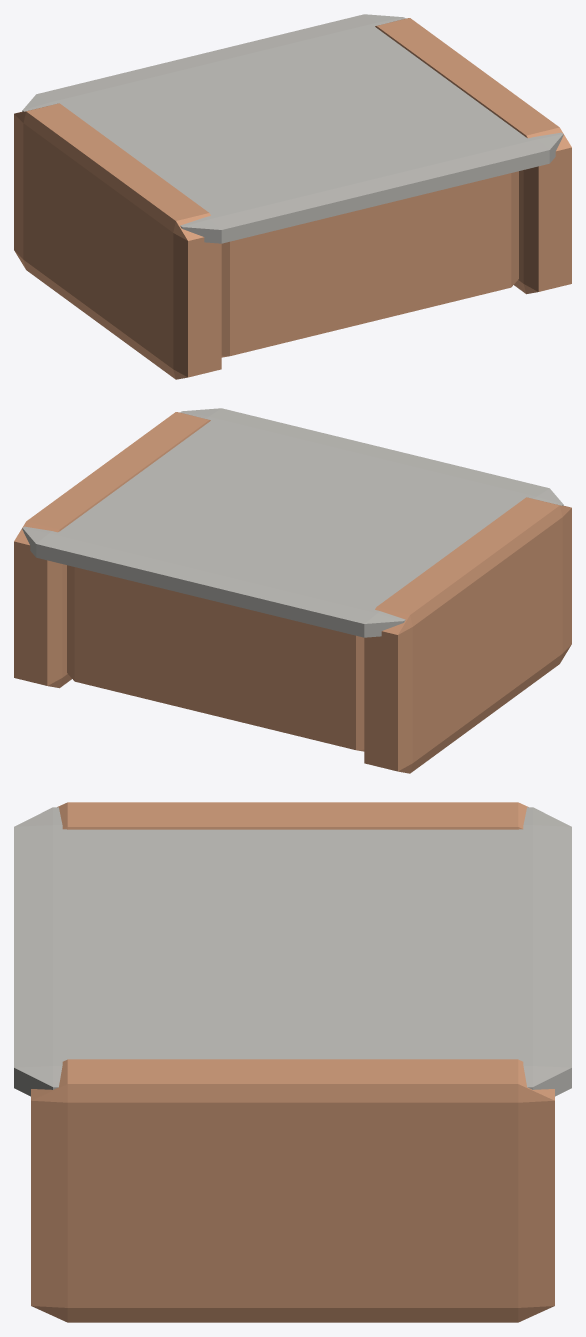
File: b19_retaining_wall_corner.glb
3 views of the same model, one above another, from view 1: azimuth 30°, elevation 25°; view 2: azimuth 150°, elevation 25°; view 3: azimuth 270°, elevation 25° (orthographic). The views are drawn at different scales.
Parts seen in each view (by area): view 1: b19_retaining_wall_corner; view 2: b19_retaining_wall_corner; view 3: b19_retaining_wall_corner.
Part boxes in pixels (x1,y1,x2,y2): b19_retaining_wall_corner: (14, 14, 571, 379); b19_retaining_wall_corner: (14, 408, 571, 773); b19_retaining_wall_corner: (14, 802, 571, 1322).
Size of the model in its own units: 2.46 by 0.958 by 2.03.
